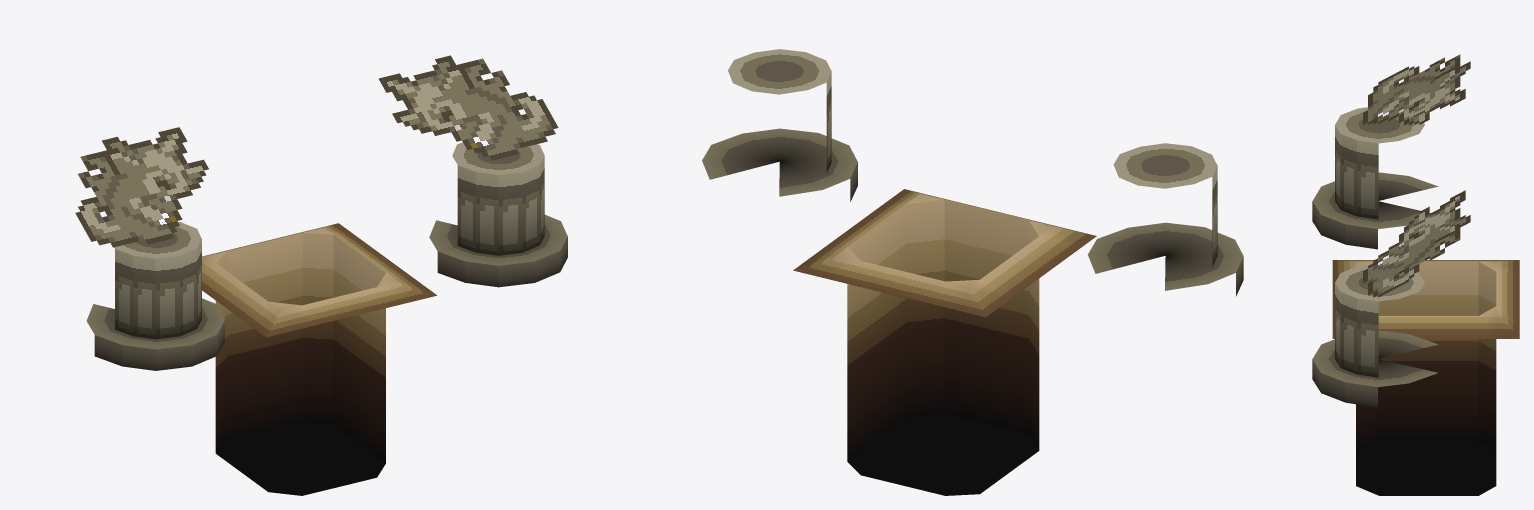
3 views of the same model, side by side, from view 1: azimuth 30°, elevation 25°; view 2: azimuth 150°, elevation 25°; view 3: azimuth 270°, elevation 25° (orthographic). The views are drawn at different scales.
Bounding box in the file's own units: 5.81 × 4 × 2.22.
3 materials, 3 textured.
